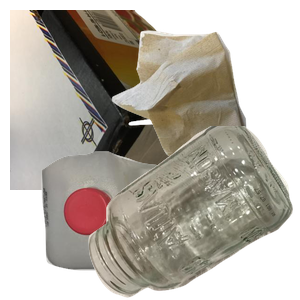cardboard: (10, 10, 238, 190)
glass: (86, 126, 300, 300)
plastic: (39, 149, 203, 300)
trash: (109, 28, 300, 208)
